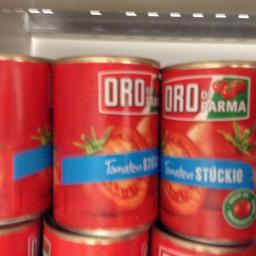tomato_sauce: (50, 54, 161, 233), (160, 58, 255, 244)
